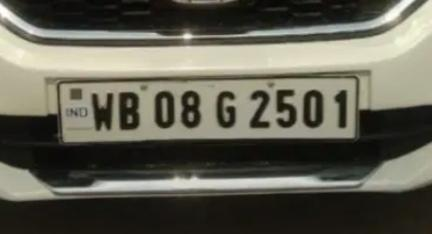0: (298, 83, 327, 132), (150, 86, 177, 132)
1: (331, 85, 351, 134)
2: (247, 83, 273, 131)
5: (273, 85, 299, 134)
8: (179, 89, 203, 132)
B: (114, 86, 143, 133)
G: (211, 85, 241, 135)
W: (88, 85, 117, 133)
